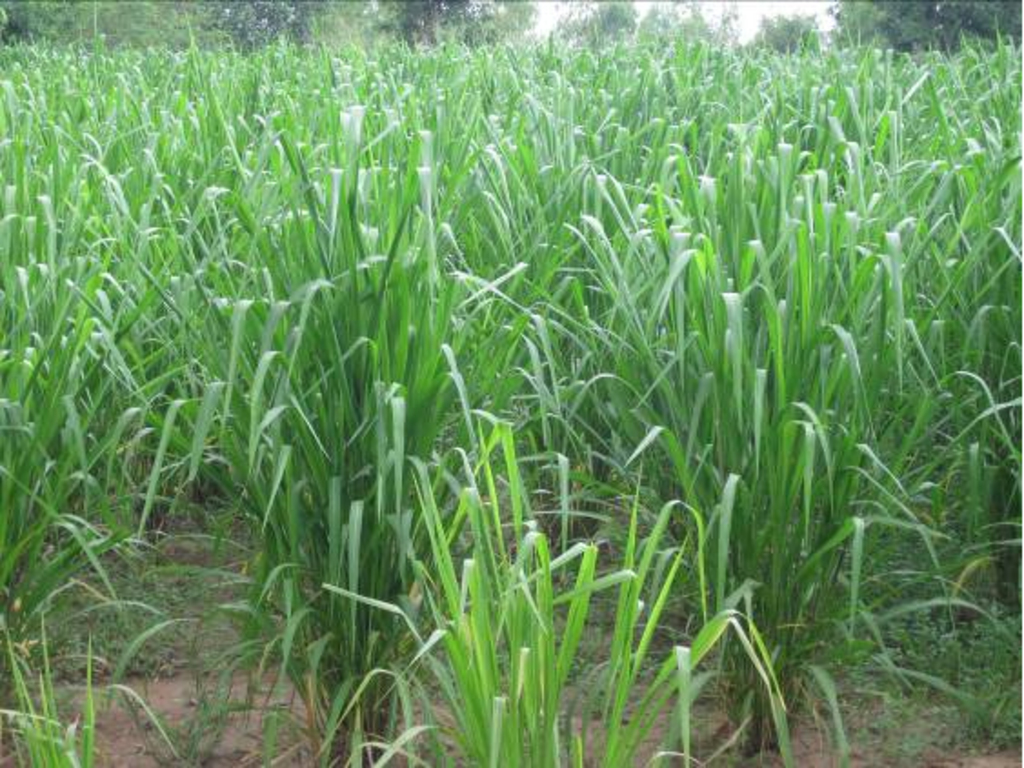Tree: (0, 0, 1021, 57)
